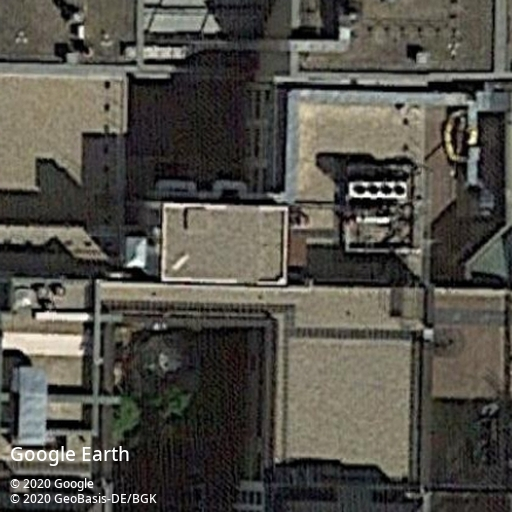Chiller: (347, 178, 409, 202)
